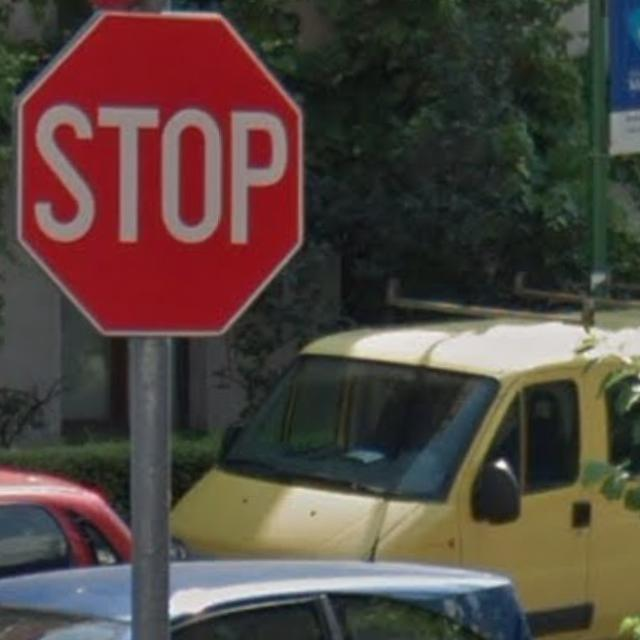prio_stop: (16, 10, 303, 337)
